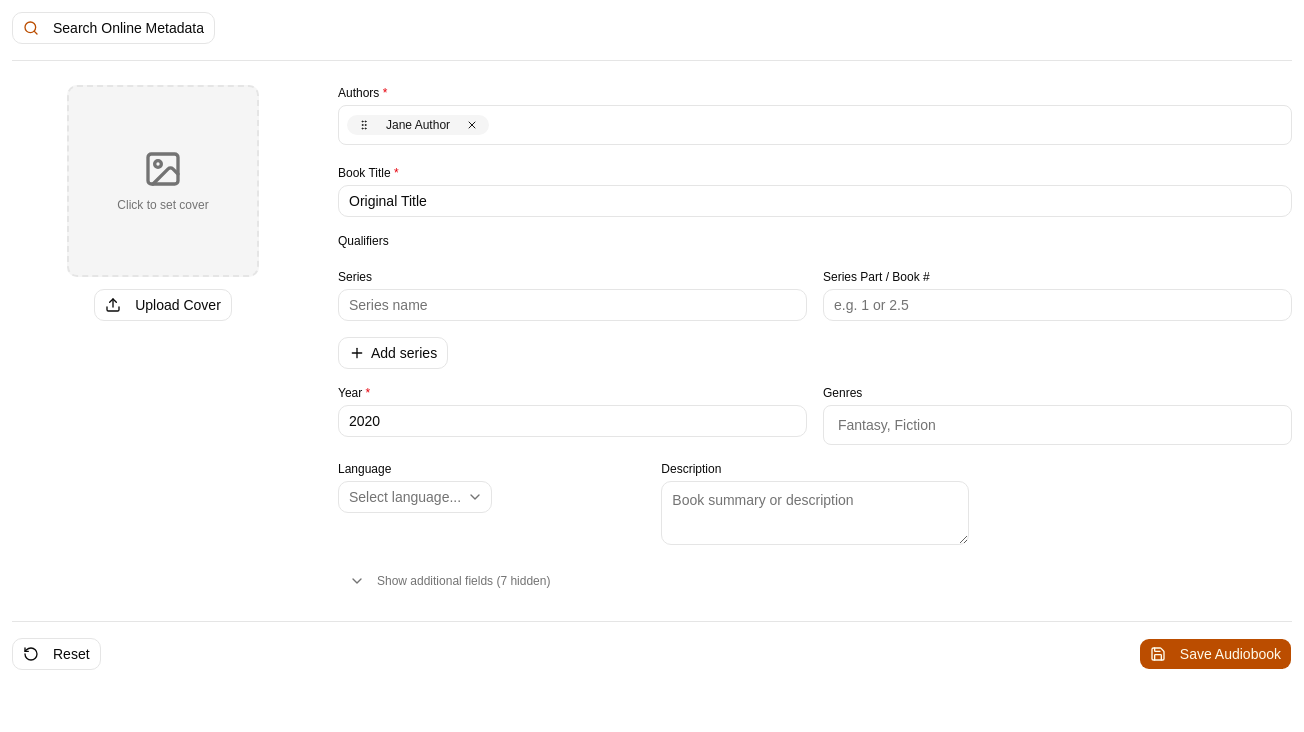
BookEditForm › blocks submit and shows a validation error when authors is cleared
Click the button named "Remove Jane Author" at (472,125), box [460, 113, 484, 137]
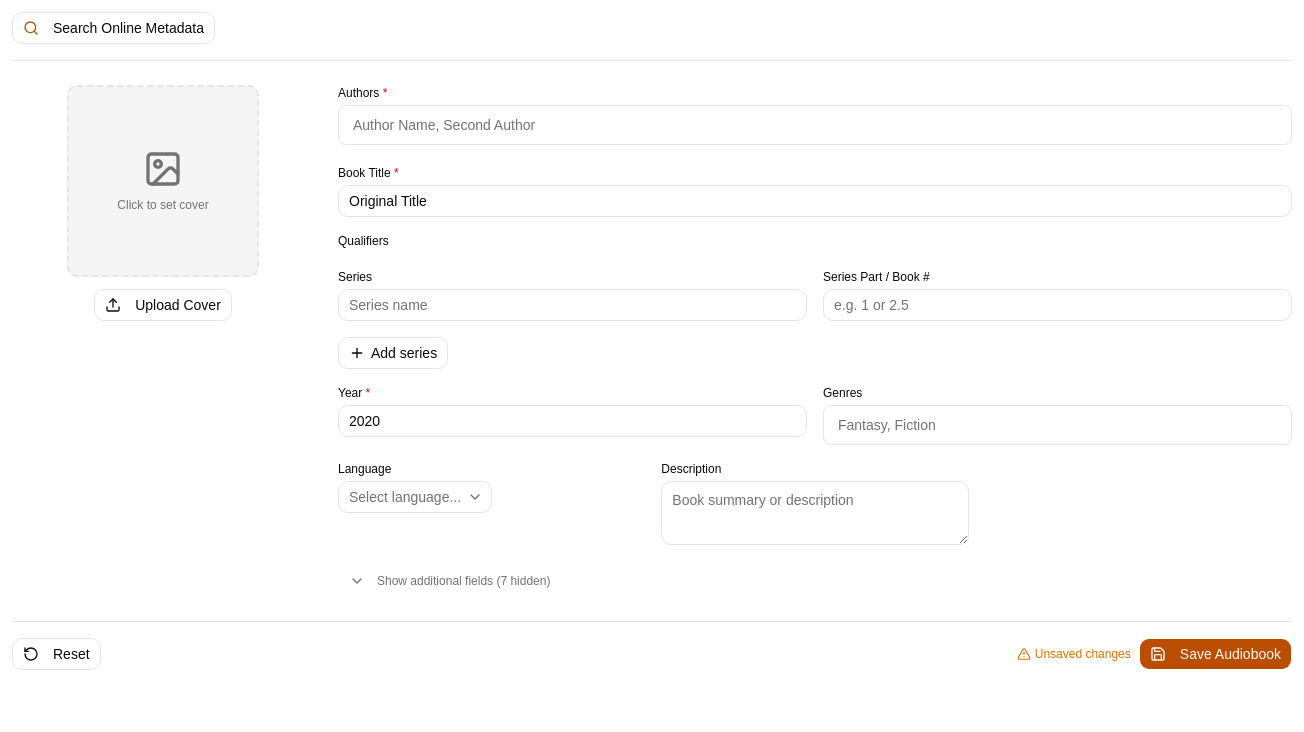
Click the button "Save Audiobook" at (1215,654), box [1139, 638, 1292, 670]
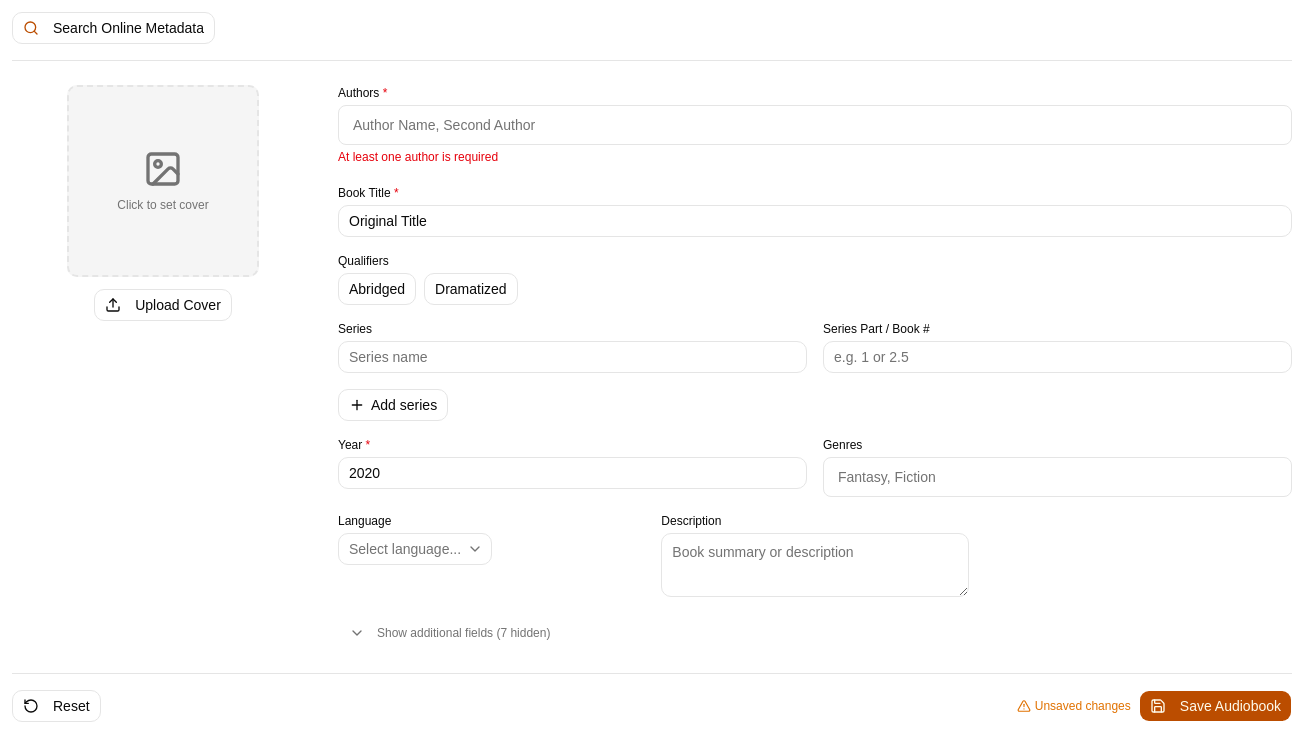
Now the text "At least one author is required" is shown, box [338, 150, 498, 164]
